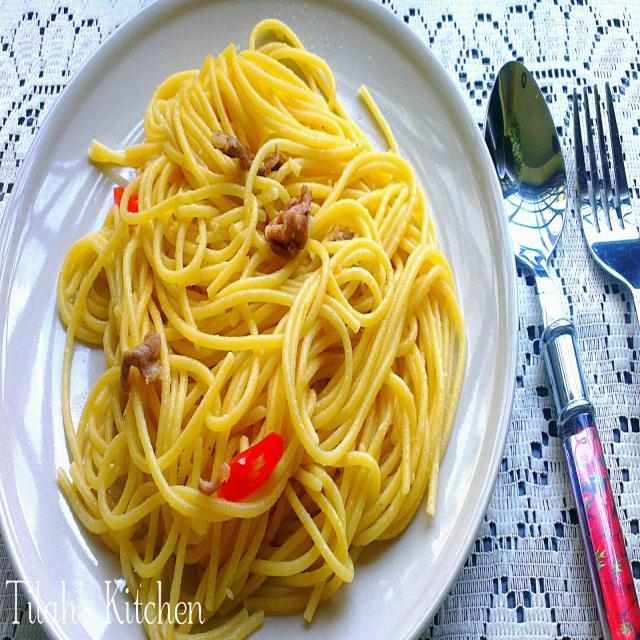Oil pasta: (67, 52, 527, 640)
